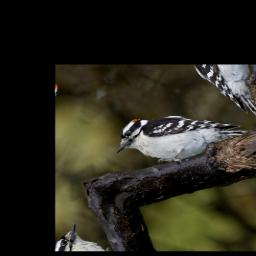Woodpecker: (109, 86, 252, 196)
